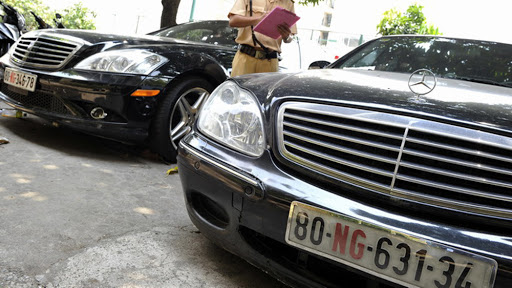plate: (288, 198, 499, 288)
